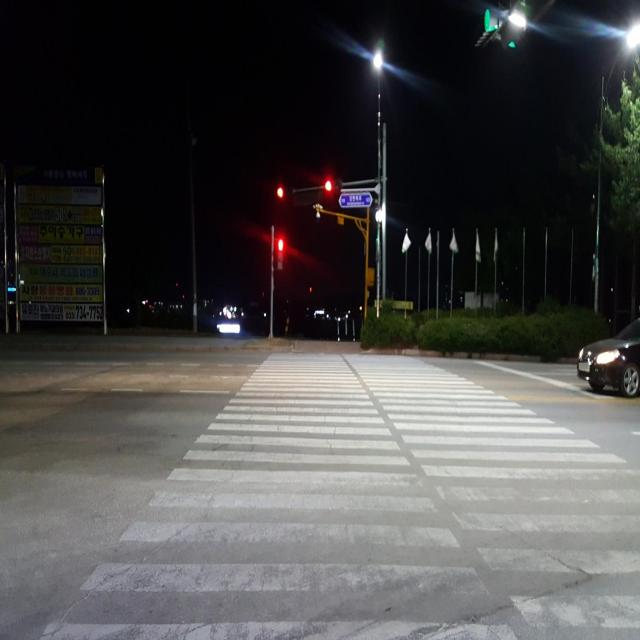빨간불: (276, 235, 286, 274)
횡단보도: (42, 351, 640, 639)
